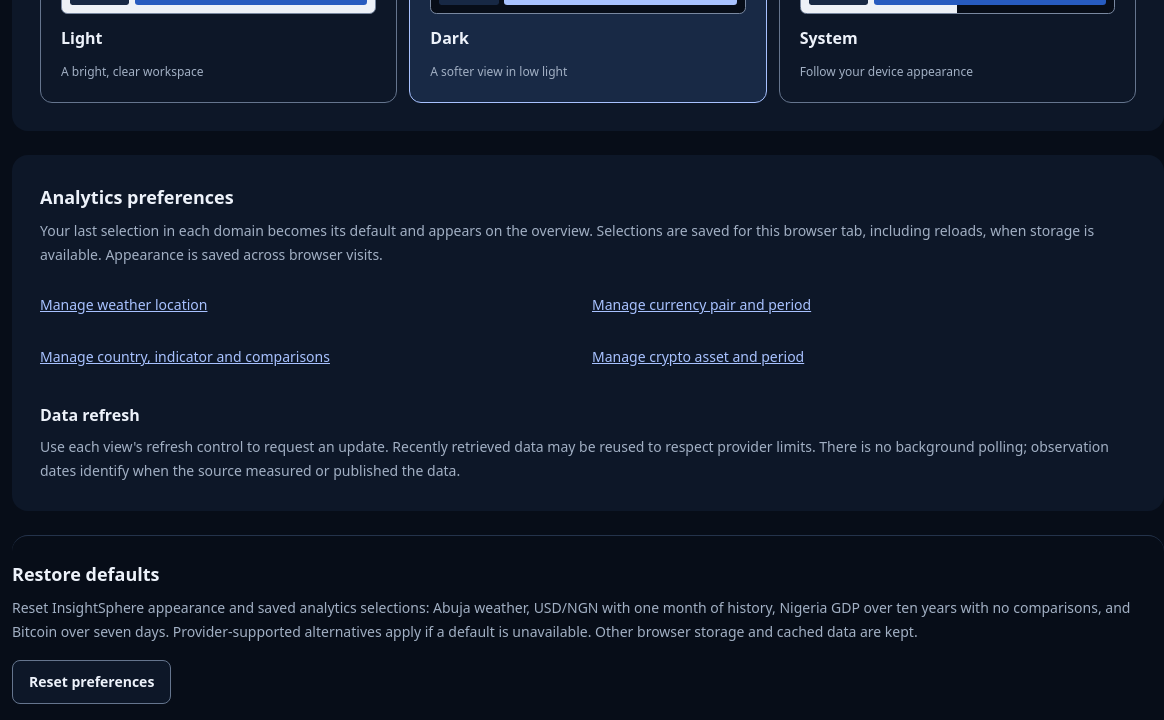
it: Appearance and preference controls › cancels reset without changing preferences and restores focus
This screenshot has width=1164, height=720.
(page scrolled)
Click the button "Reset preferences".
click(92, 682)  # box top-left (12, 660), bottom-right (171, 704)
(page scrolled)
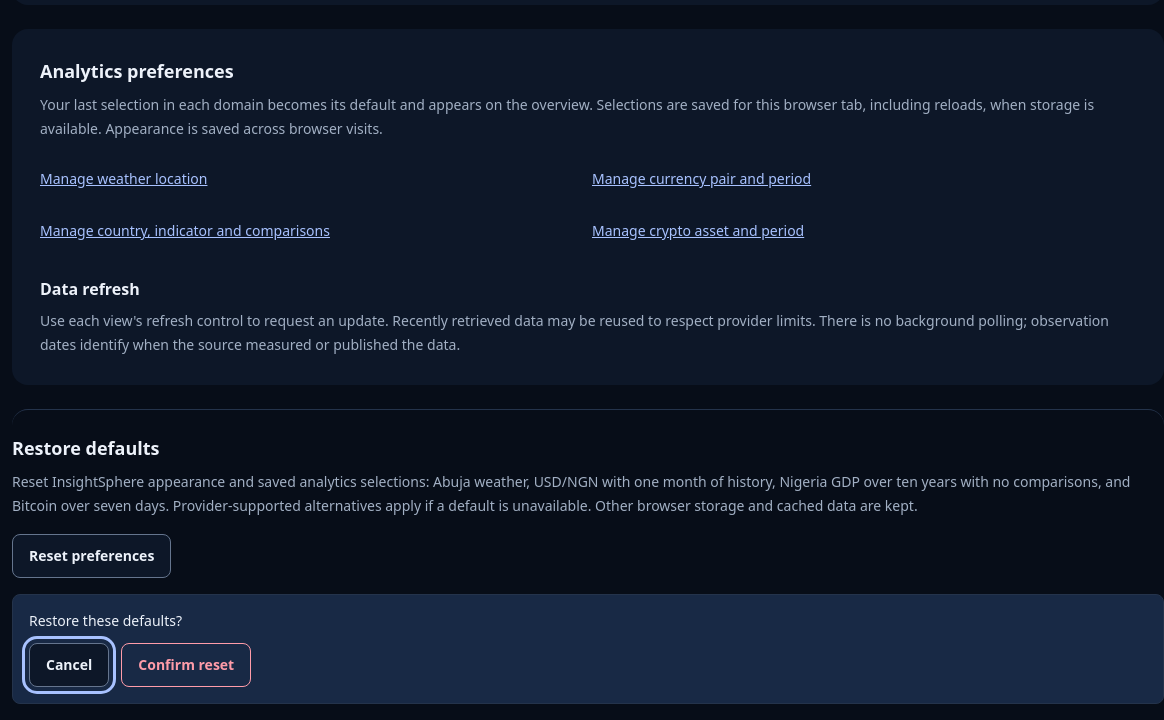
Press Enter
(page scrolled)
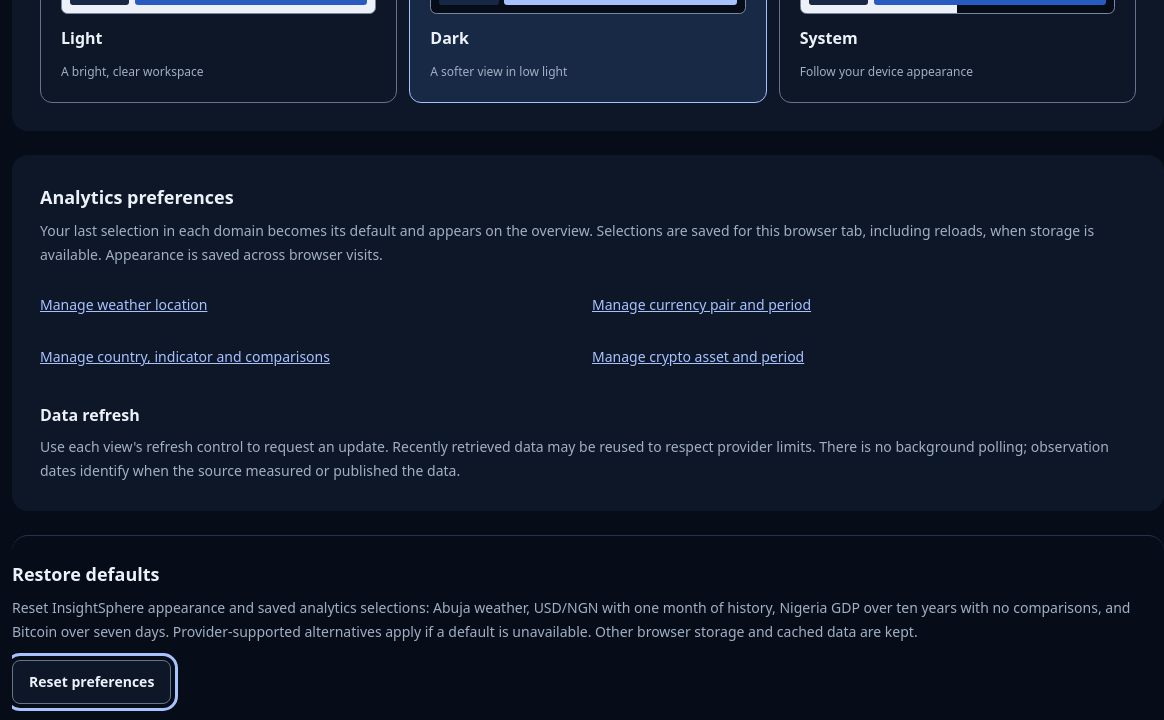
Expected: the button "Confirm reset" is gone
